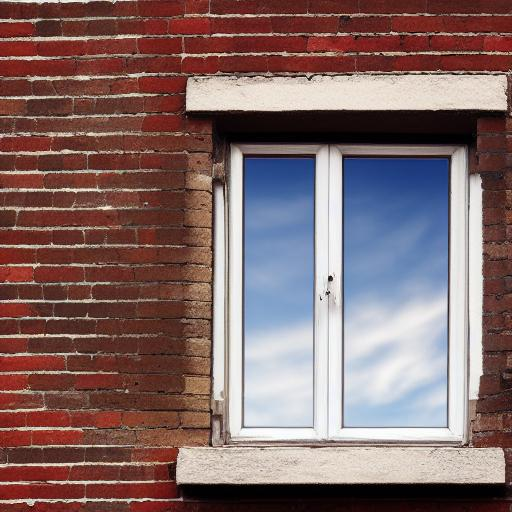Window: (178, 77, 508, 485)
